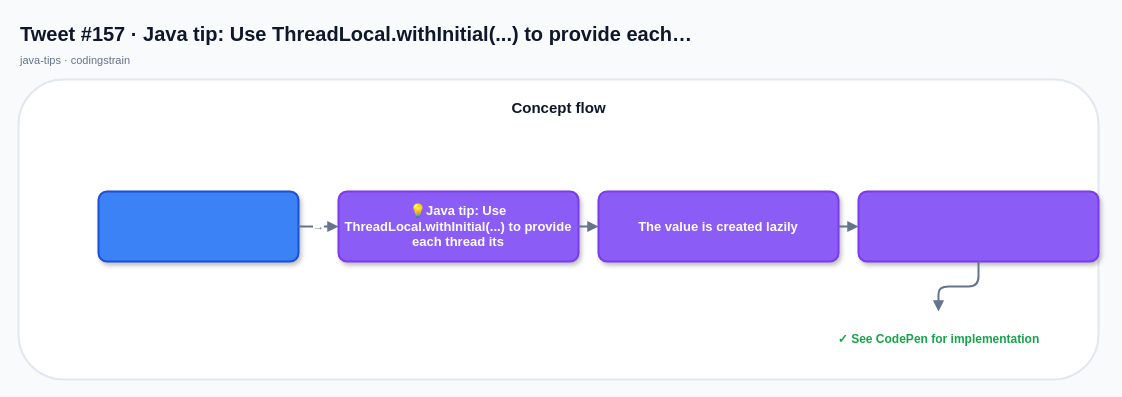
Some shapes in this 1122 by 397 pixel diagram are drawn without their labels. The shapes that lost their labels are listed below. From the top down, each one's centre as x and y in pixels, then its label:
point (199, 227): Problem / context
point (979, 227): #Java #JavaDev
